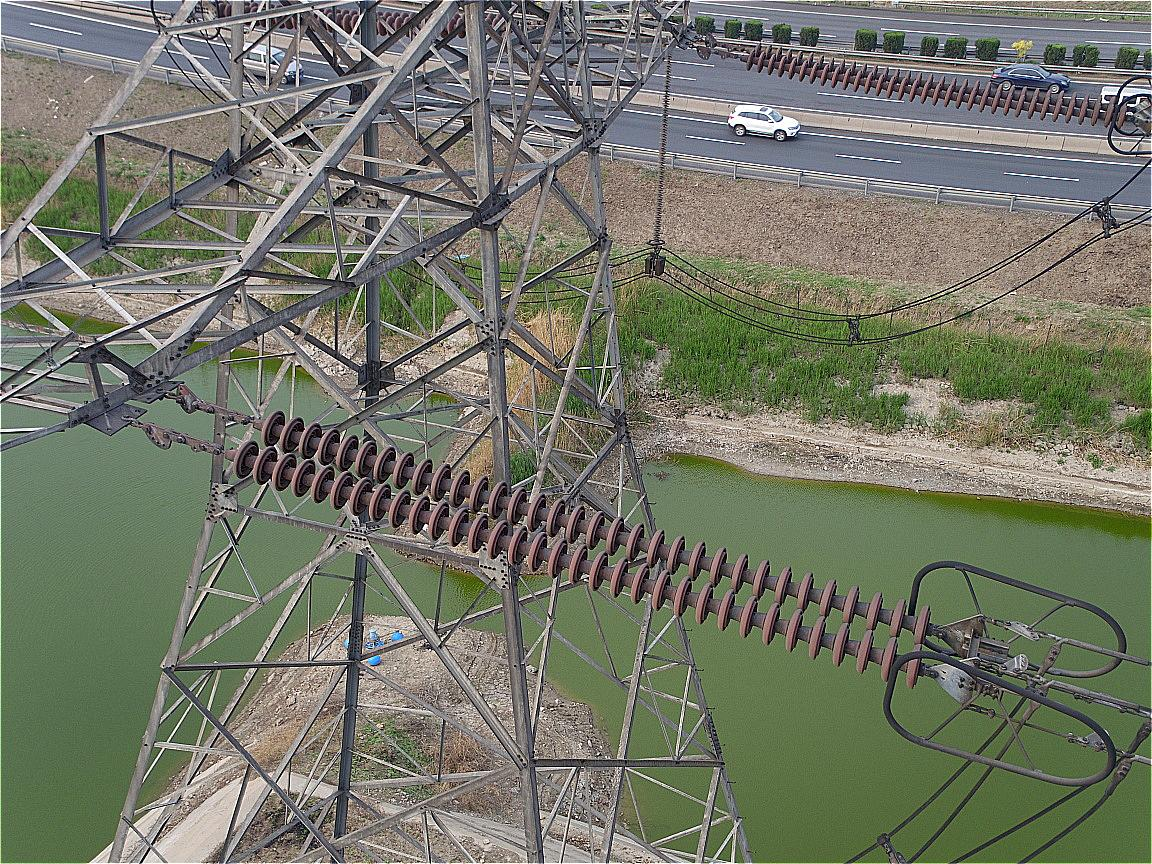insultor1: (217, 399, 948, 701), (735, 33, 1134, 139)
